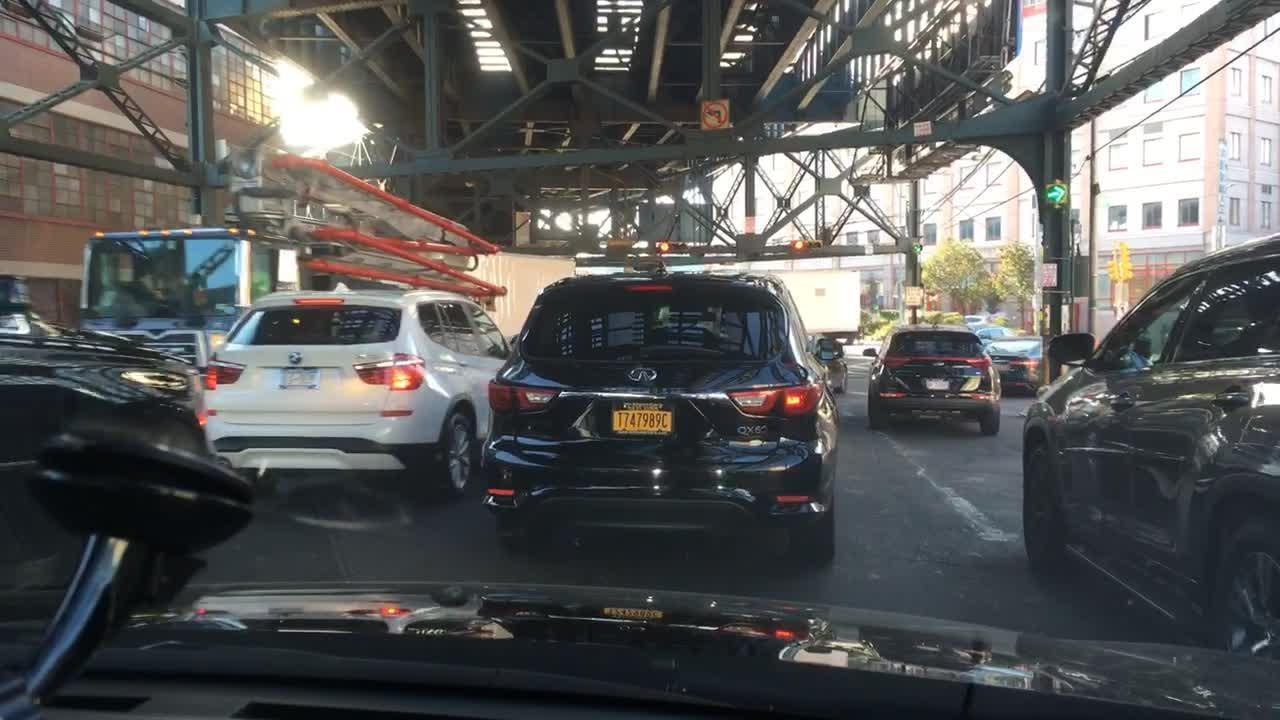Infiniti: (624, 362, 659, 384)
bmw: (284, 351, 305, 366)
